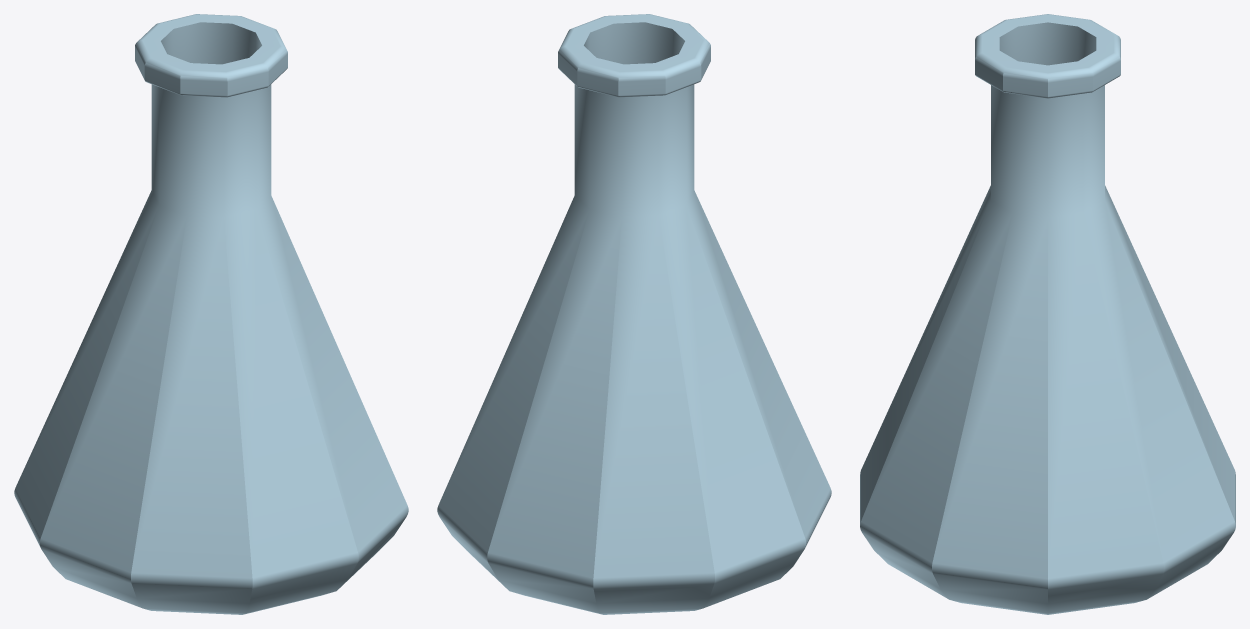
The model's file is beaker.fbx.
3 renders of one model, left to right at view 1: azimuth 30°, elevation 25°; view 2: azimuth 150°, elevation 25°; view 3: azimuth 270°, elevation 25°, orthographic.
Parts seen in each view (by area): view 1: flask; view 2: flask; view 3: flask.
Boxes of the visible parts, x1,y1,x2,y2 form: flask: [14, 14, 408, 614]; flask: [437, 14, 831, 614]; flask: [860, 14, 1235, 614].
Bounding box in the file's own units: 6.05 × 8.66 × 5.75.
